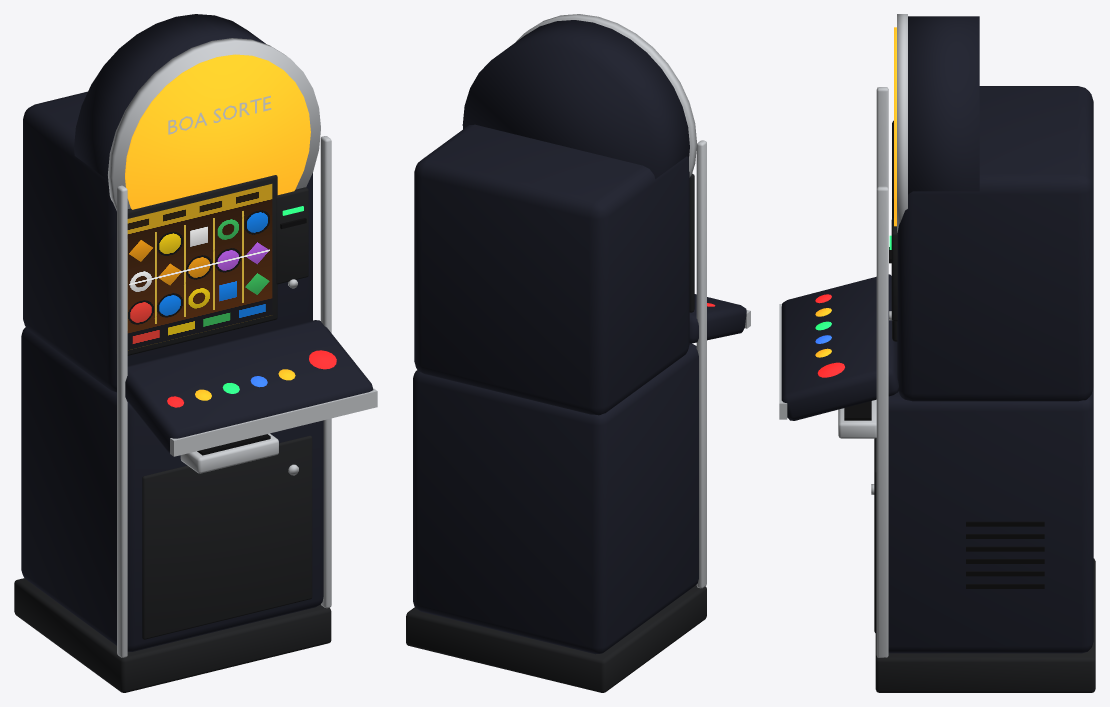
File: maquina_caca_niquel.glb
3 views of the same model, side by side, from view 1: azimuth 30°, elevation 25°; view 2: azimuth 150°, elevation 25°; view 3: azimuth 270°, elevation 25° (orthographic). The views are drawn at different scales.
Parts seen in each view (by area): view 1: Caca_Niquel_01_Gabinete, Caca_Niquel_01_Porta_Cofre, Caca_Niquel_01_Corpo_Tela, Caca_Niquel_01_Topo_Luz, Caca_Niquel_01_Tela, Caca_Niquel_01_Mesa_Botoes, Caca_Niquel_01_Base, Caca_Niquel_01_Topo_Arco, Caca_Niquel_01_Topo_Aro, Caca_Niquel_01_Friso, Caca_Niquel_01_Friso.001, Caca_Niquel_01_Mesa_Borda (+4 smaller); view 2: Caca_Niquel_01_Gabinete, Caca_Niquel_01_Corpo_Tela, Caca_Niquel_01_Topo_Arco, Caca_Niquel_01_Base, Caca_Niquel_01_Friso, Caca_Niquel_01_Topo_Aro, Caca_Niquel_01_Mesa_Botoes, Caca_Niquel_01_Moldura_Tela; view 3: Caca_Niquel_01_Corpo_Tela, Caca_Niquel_01_Gabinete, Caca_Niquel_01_Topo_Arco, Caca_Niquel_01_Mesa_Botoes, Caca_Niquel_01_Base, Caca_Niquel_01_Friso.001, Caca_Niquel_01_Topo_Aro, Caca_Niquel_01_Friso, Caca_Niquel_01_Bandeja, Caca_Niquel_01_Noteiro, Caca_Niquel_01_Topo_Luz, Caca_Niquel_01_Porta_Cofre.
Boxes of the visible parts, box(x1,y1,x2,y2) form: Caca_Niquel_01_Gabinete: box(21, 327, 323, 651); Caca_Niquel_01_Porta_Cofre: box(142, 435, 312, 639); Caca_Niquel_01_Corpo_Tela: box(23, 91, 312, 392); Caca_Niquel_01_Topo_Luz: box(125, 54, 310, 209); Caca_Niquel_01_Tela: box(127, 184, 272, 350); Caca_Niquel_01_Mesa_Botoes: box(125, 320, 373, 453); Caca_Niquel_01_Base: box(14, 578, 331, 692); Caca_Niquel_01_Topo_Arco: box(74, 14, 265, 180); Caca_Niquel_01_Topo_Aro: box(108, 38, 320, 210); Caca_Niquel_01_Friso: box(117, 185, 127, 657); Caca_Niquel_01_Friso.001: box(320, 136, 331, 608); Caca_Niquel_01_Mesa_Borda: box(170, 388, 377, 456); Caca_Niquel_01_Gabinete: box(413, 343, 698, 654); Caca_Niquel_01_Corpo_Tela: box(414, 124, 689, 415); Caca_Niquel_01_Topo_Arco: box(462, 20, 689, 178); Caca_Niquel_01_Base: box(406, 585, 706, 692); Caca_Niquel_01_Friso: box(696, 140, 706, 588); Caca_Niquel_01_Topo_Aro: box(515, 14, 696, 177); Caca_Niquel_01_Mesa_Botoes: box(689, 294, 746, 343); Caca_Niquel_01_Moldura_Tela: box(689, 173, 694, 312); Caca_Niquel_01_Corpo_Tela: box(897, 86, 1093, 401); Caca_Niquel_01_Gabinete: box(888, 388, 1093, 653); Caca_Niquel_01_Topo_Arco: box(908, 16, 979, 194); Caca_Niquel_01_Mesa_Botoes: box(781, 274, 898, 420); Caca_Niquel_01_Base: box(875, 558, 1095, 692); Caca_Niquel_01_Friso.001: box(876, 186, 888, 657); Caca_Niquel_01_Topo_Aro: box(897, 14, 907, 232); Caca_Niquel_01_Friso: box(876, 87, 888, 188); Caca_Niquel_01_Bandeja: box(838, 399, 876, 438); Caca_Niquel_01_Noteiro: box(891, 218, 897, 321); Caca_Niquel_01_Topo_Luz: box(894, 27, 896, 226); Caca_Niquel_01_Porta_Cofre: box(874, 438, 876, 633).
Size of the model in its own units: 0.62 by 1.74 by 0.805.
11 materials, 1 textured.
